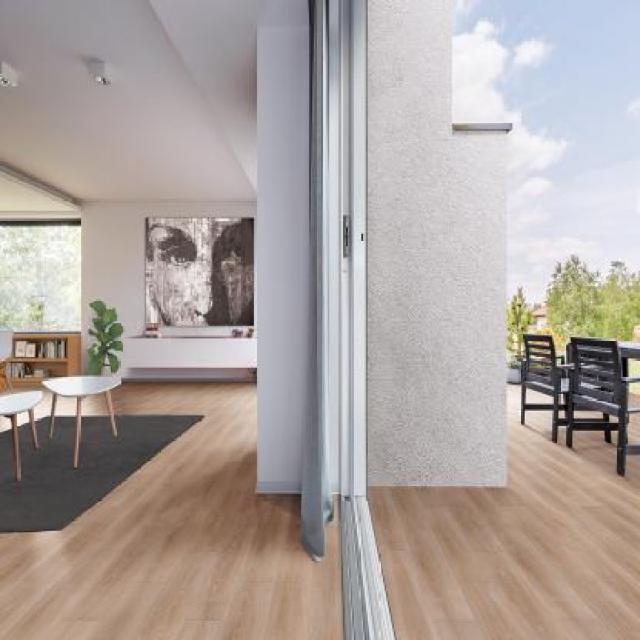Floor: (0, 382, 345, 639), (368, 382, 640, 639), (11, 385, 53, 420), (80, 392, 110, 415), (55, 396, 77, 416), (626, 412, 640, 443), (526, 388, 553, 404), (16, 411, 30, 426), (574, 411, 603, 418), (0, 417, 12, 433), (628, 393, 640, 408)
